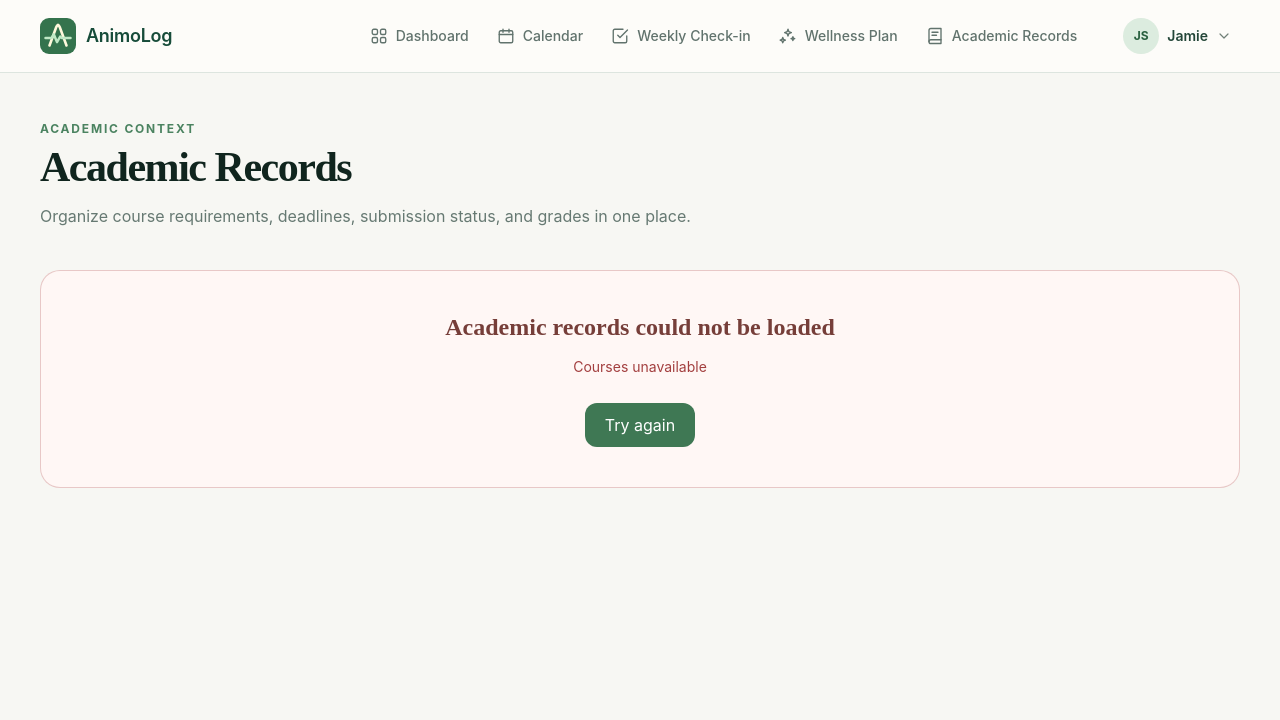
Test case: Academic Records page › shows load failures and retries
This screenshot has width=1280, height=720.
Expected: the text "Courses unavailable" is shown, [573,358,707,375]
Click the button "Try again" at x=640, y=425, box [585,403,695,447]
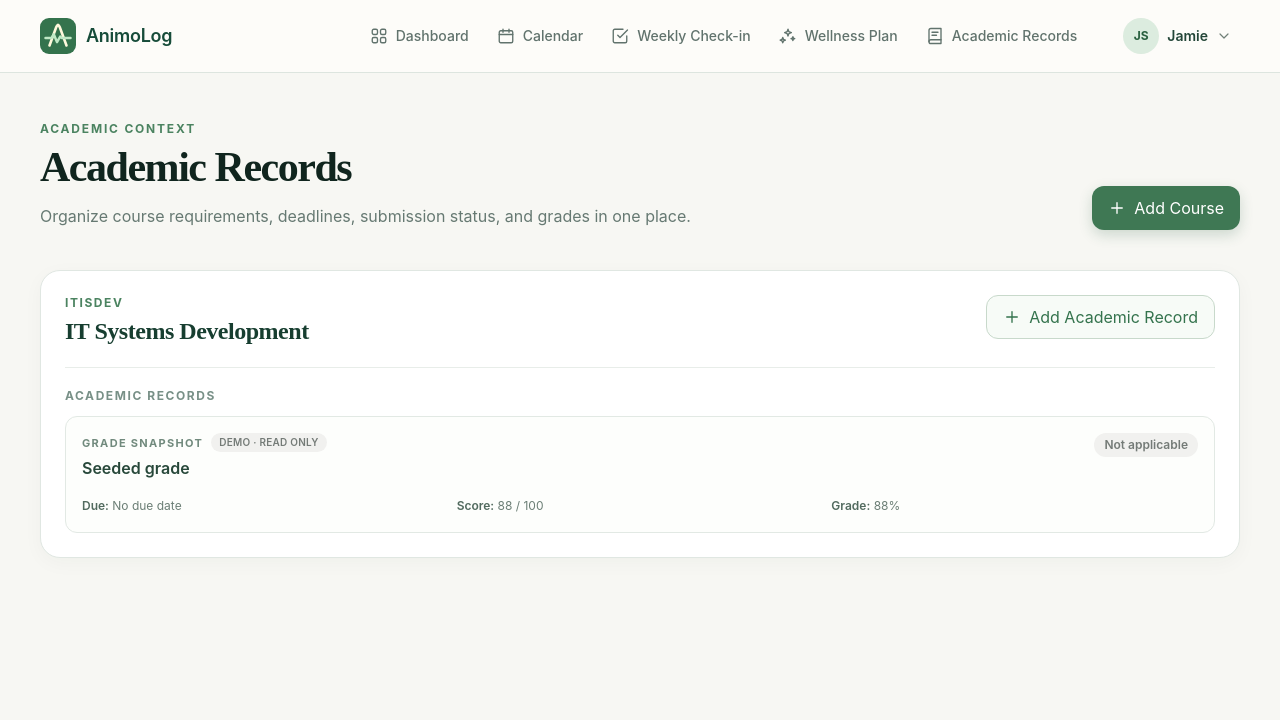
Expected: the heading "IT Systems Development" is shown, [65,315,309,347]
